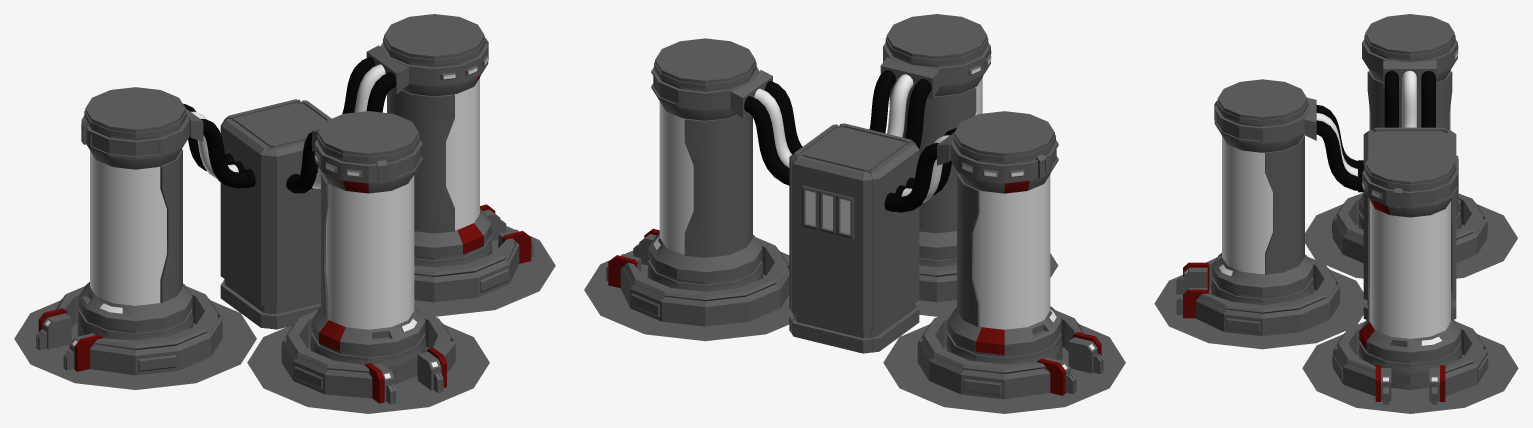
File: Incubator.fbx
The picture shows the model from 3 angles, left to right: view 1: azimuth 30°, elevation 25°; view 2: azimuth 150°, elevation 25°; view 3: azimuth 270°, elevation 25°; orthographic projection. The views are drawn at different scales.
Visible parts, largest first — view 1: Cube, Circle.002, Circle.010, Circle.011, Circle.003, Circle.020, Circle.008, Circle.016, Circle.013, Circle.021, Circle, Circle.007 (+17 smaller); view 2: Cube, Circle.010, Circle.021, Circle.011, Circle.022, Circle.020, Circle.016, Circle.003, Circle.013, Circle.025, Circle.009, Circle.018 (+15 smaller); view 3: Circle.019, Circle.020, Circle.003, Circle.002, Circle.025, Circle.007, Circle.008, Circle.011, Circle.004, Circle.018, Circle.016, Circle.022 (+12 smaller).
Part boxes in pixels (x1=…): Cube: x1=220, y1=99, x2=331, y2=329; Circle.002: x1=326, y1=174, x2=414, y2=329; Circle.010: x1=90, y1=151, x2=166, y2=305; Circle.011: x1=81, y1=87, x2=189, y2=169; Circle.003: x1=314, y1=111, x2=422, y2=193; Circle.020: x1=380, y1=14, x2=488, y2=96; Circle.008: x1=247, y1=324, x2=489, y2=413; Circle.016: x1=14, y1=300, x2=256, y2=389; Circle.013: x1=56, y1=286, x2=222, y2=375; Circle.021: x1=387, y1=90, x2=454, y2=233; Circle: x1=310, y1=306, x2=426, y2=383; Circle.007: x1=281, y1=310, x2=455, y2=398; Cube: x1=789, y1=123, x2=919, y2=353; Circle.010: x1=973, y1=175, x2=1050, y2=329; Circle.021: x1=684, y1=114, x2=752, y2=257; Circle.011: x1=950, y1=111, x2=1058, y2=193; Circle.022: x1=620, y1=237, x2=789, y2=326; Circle.020: x1=651, y1=38, x2=759, y2=120; Circle.016: x1=883, y1=324, x2=1125, y2=413; Circle.003: x1=883, y1=14, x2=991, y2=96; Circle.013: x1=917, y1=310, x2=1083, y2=399; Circle.025: x1=584, y1=250, x2=792, y2=341; Circle.009: x1=946, y1=306, x2=1062, y2=364; Circle.018: x1=647, y1=233, x2=763, y2=291; Circle.019: x1=1369, y1=201, x2=1450, y2=338; Circle.020: x1=1362, y1=144, x2=1458, y2=217; Circle.003: x1=1214, y1=79, x2=1310, y2=152; Circle.002: x1=1222, y1=136, x2=1272, y2=274; Circle.025: x1=1302, y1=334, x2=1518, y2=413; Circle.007: x1=1195, y1=257, x2=1339, y2=336; Circle.008: x1=1154, y1=269, x2=1363, y2=349; Circle.011: x1=1362, y1=14, x2=1458, y2=82; Circle.004: x1=1265, y1=134, x2=1304, y2=274; Circle.018: x1=1359, y1=319, x2=1461, y2=389; Circle.016: x1=1305, y1=204, x2=1517, y2=278; Circle.022: x1=1332, y1=321, x2=1488, y2=396.
Bounding box in the file's own units: 1017 × 440 × 707.
